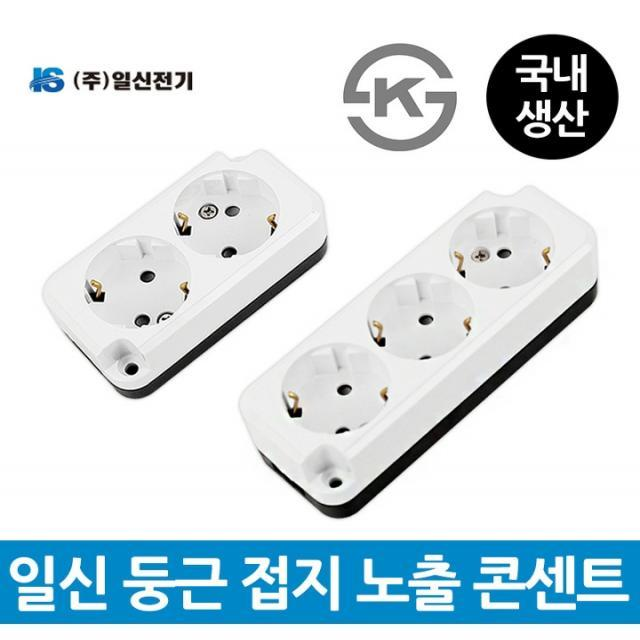typeb: (276, 131, 348, 141)
